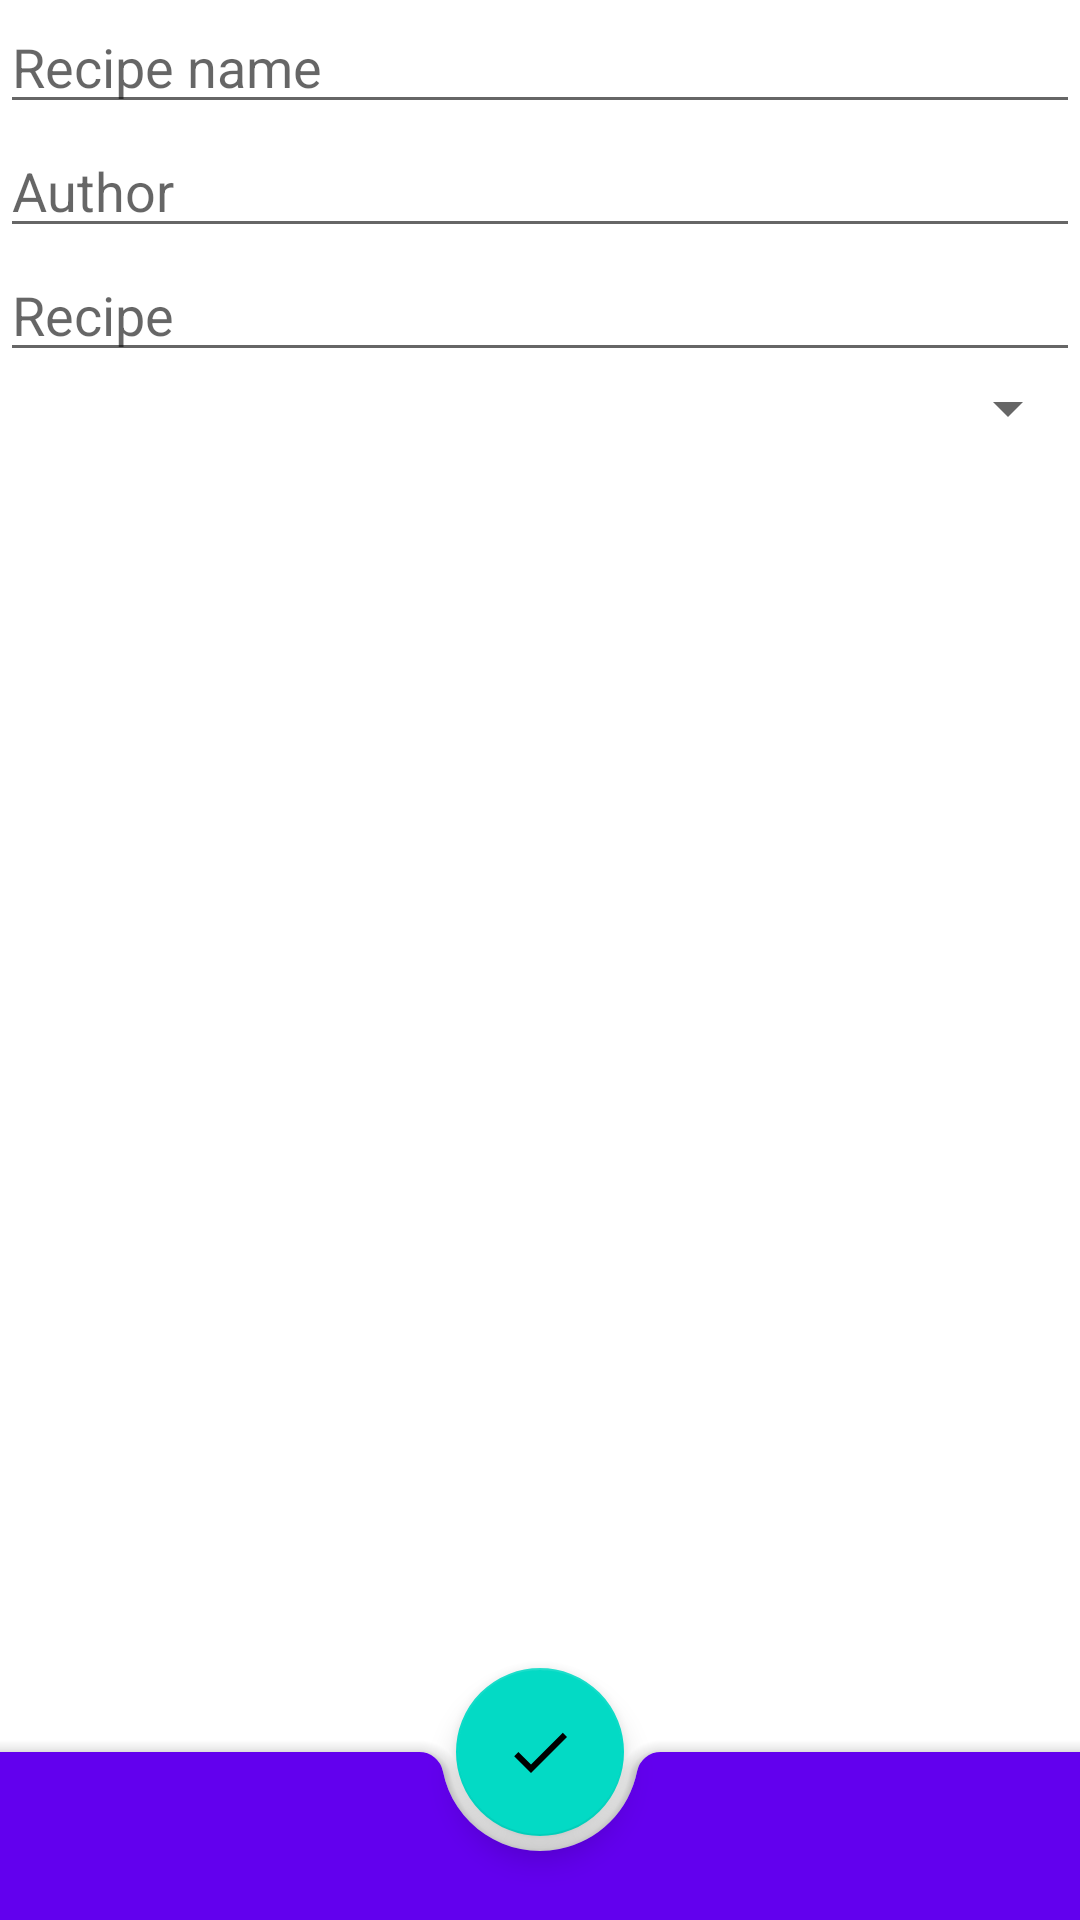

Point at icon controls on the screen. Image size 1080×1920, points as (x=x, y=y).
Save recipe: (x=540, y=1752)
